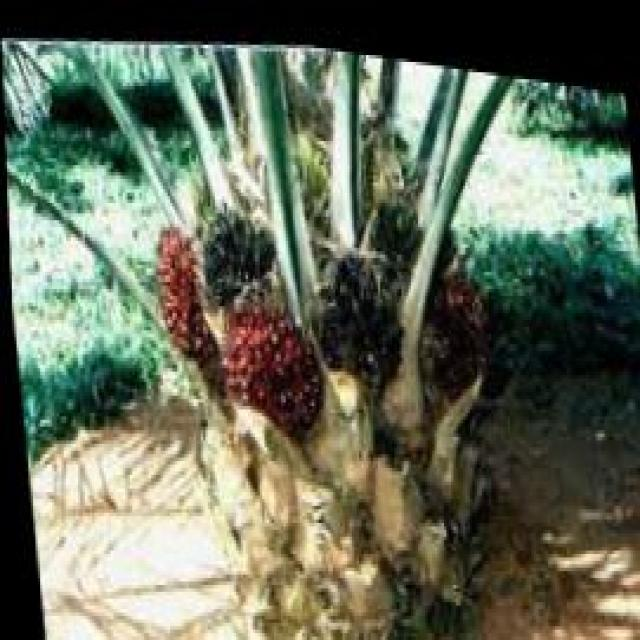Ripefruit: (213, 277, 324, 449), (145, 212, 202, 352)
